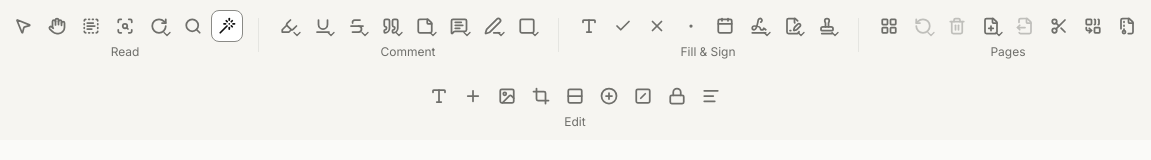
Ausfüllen & Signieren › the chevron of Signatur offers a new signature when none is saved
This screenshot has width=1151, height=160.
Click the button named "Options for Signature" at (767, 34), box left=761, top=28, right=773, bottom=40
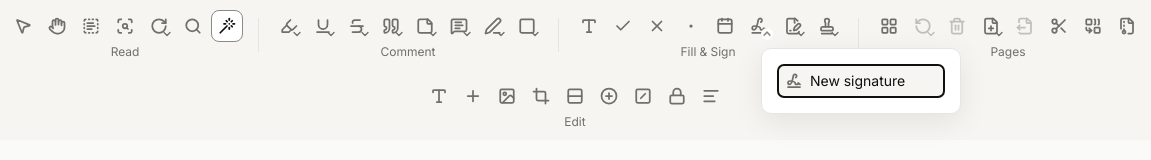
Result: the menu items read "New signature", in this order at left=778, top=65, right=944, bottom=97
